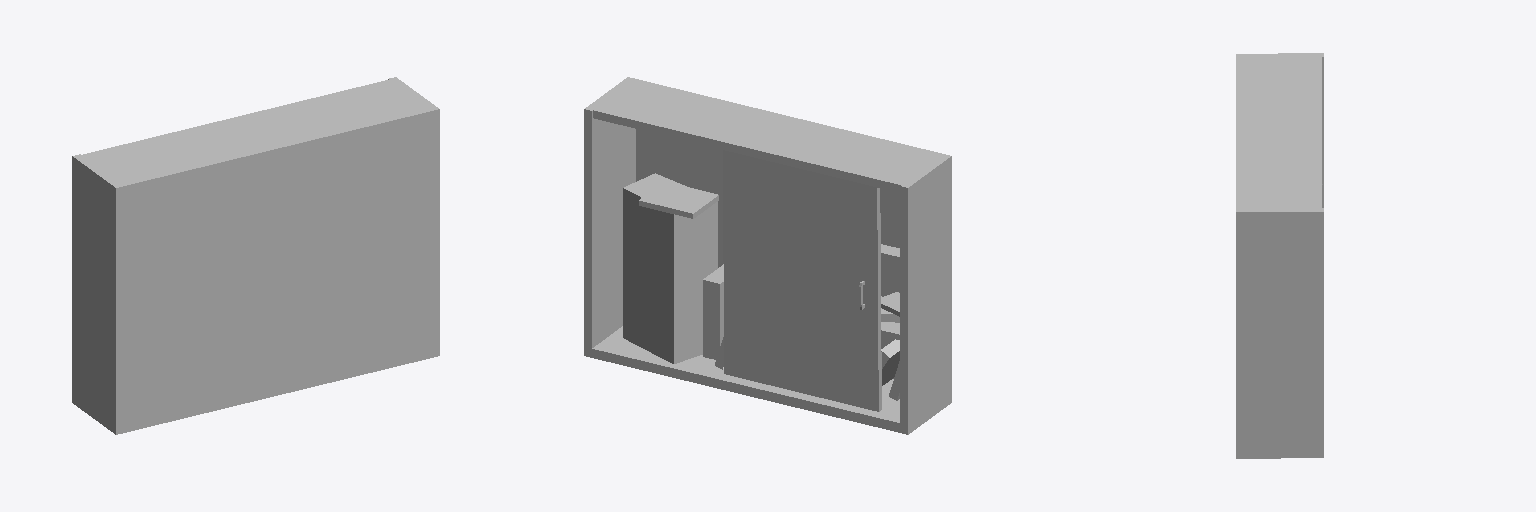
File: Bookshelf06.obj
3 views of the same model, side by side, from view 1: azimuth 30°, elevation 25°; view 2: azimuth 150°, elevation 25°; view 3: azimuth 270°, elevation 25° (orthographic).
Parts seen in each view (by area): view 1: Bookshelf06_LOD0_Bookshelf06.001; view 2: Bookshelf06_LOD0_Bookshelf06.001; view 3: Bookshelf06_LOD0_Bookshelf06.001.
Part boxes in pixels (bbox=[...]): Bookshelf06_LOD0_Bookshelf06.001: bbox=[72, 77, 439, 434]; Bookshelf06_LOD0_Bookshelf06.001: bbox=[584, 77, 951, 434]; Bookshelf06_LOD0_Bookshelf06.001: bbox=[1236, 53, 1323, 458].
Size of the model in its own units: 1.41 by 1.03 by 0.3311.